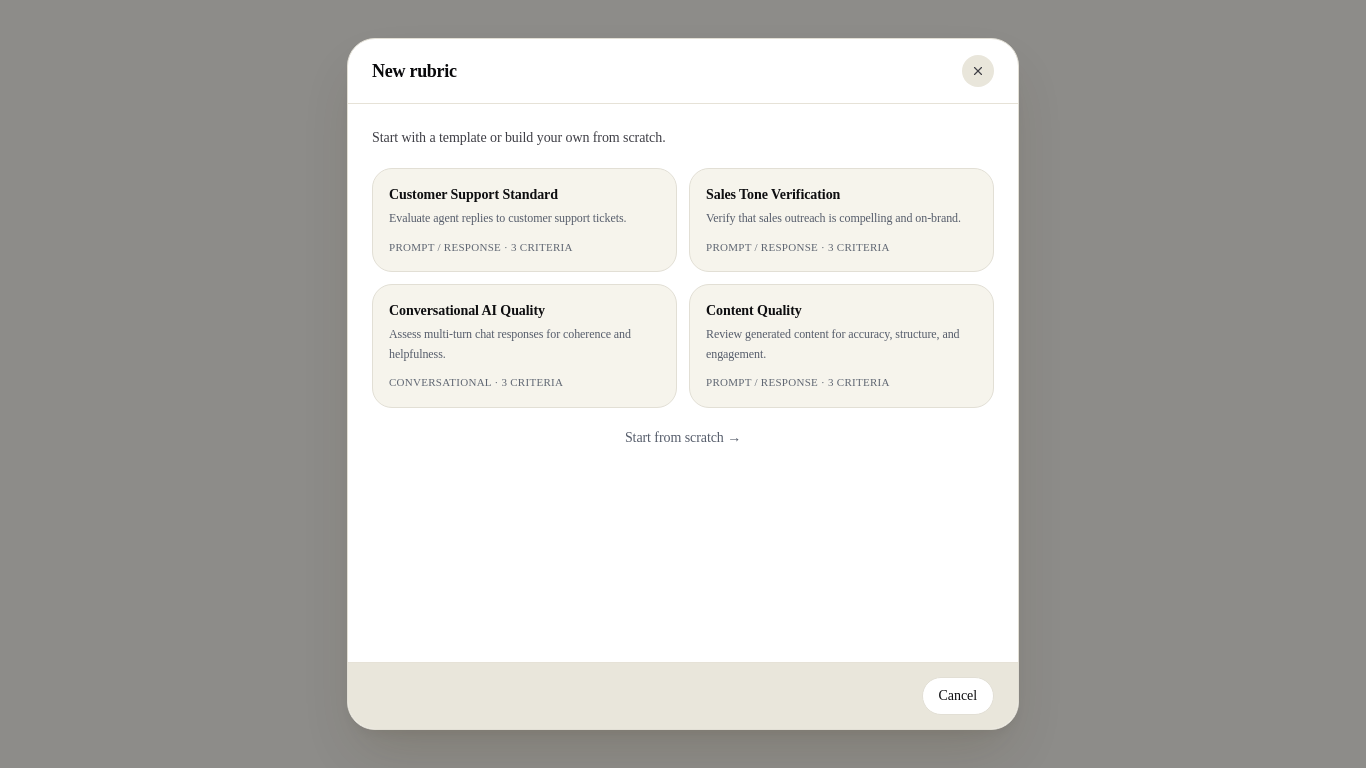
it: RubricDialog — create mode › shows 'Customer Support Standard' template content in the form after selection
The width and height of the screenshot is (1366, 768).
Click the button with test id "template-card-customer-support-standard" at (524, 220), box 372,168 -> 677,272
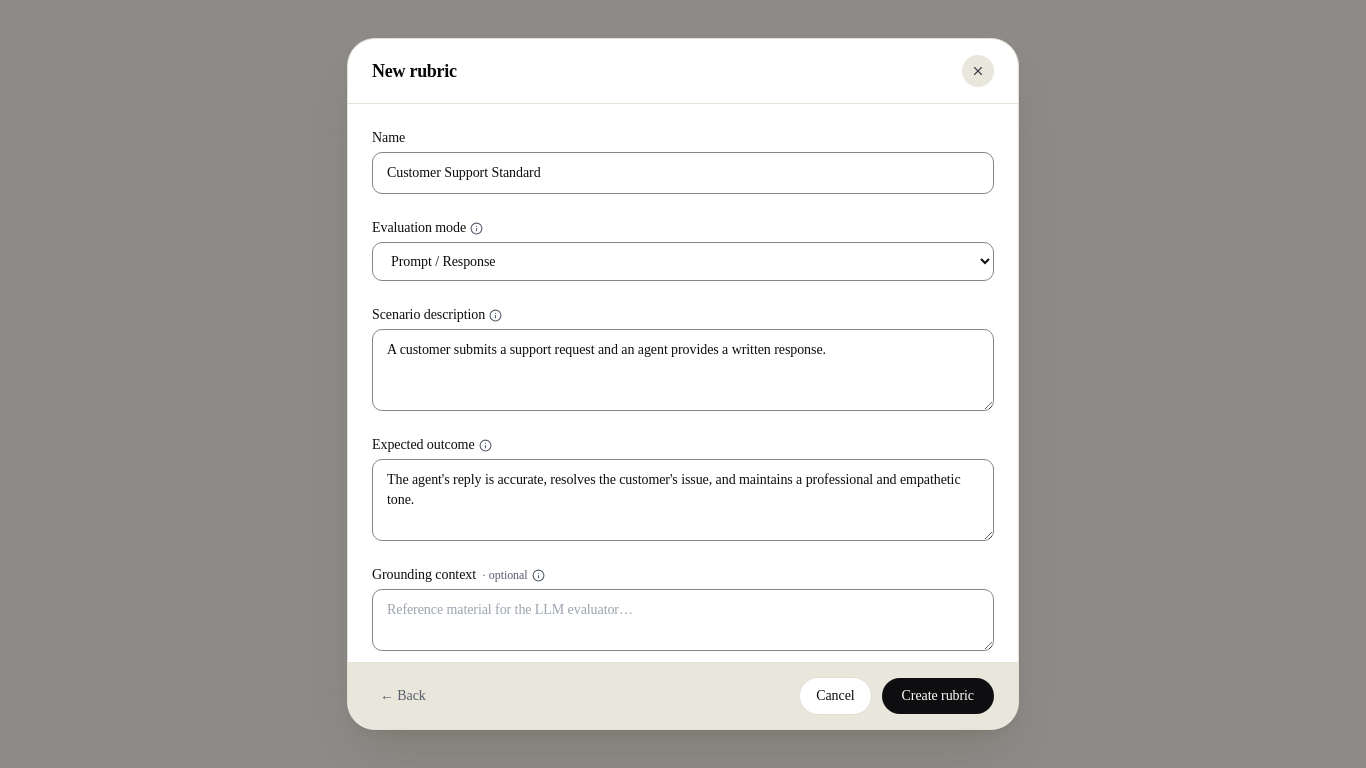
Check: the field with placeholder "e.g. Customer support quality" holds "Customer Support Standard", box 372,152 -> 994,194
Check: the button "Create rubric" is shown, box 882,678 -> 994,714
